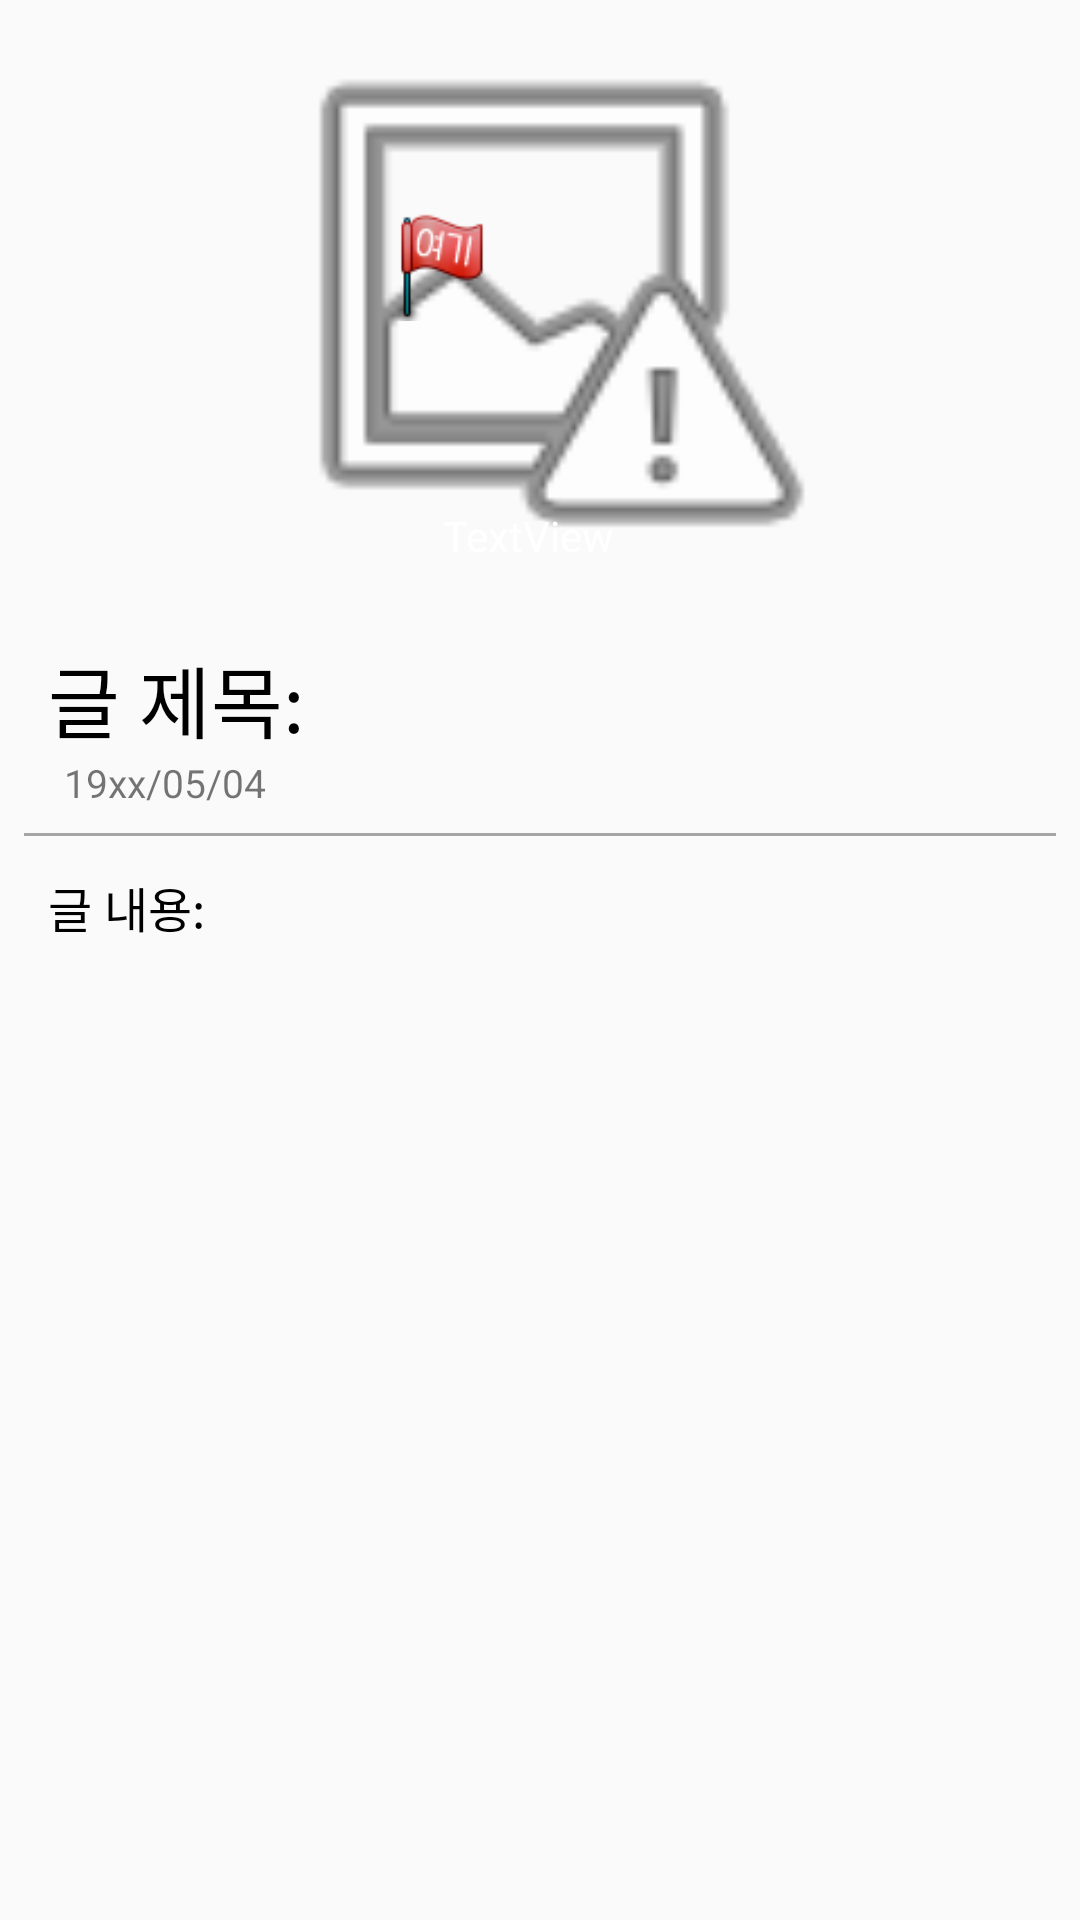

Icons on this 1080px×1920px Android screen, each with its box as (x1, y1, x2, y2):
flag this: (388, 214, 496, 321)
